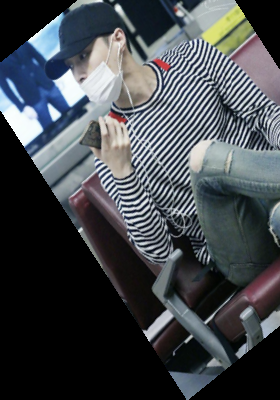mask_weared_incorrect: (45, 2, 144, 110)
